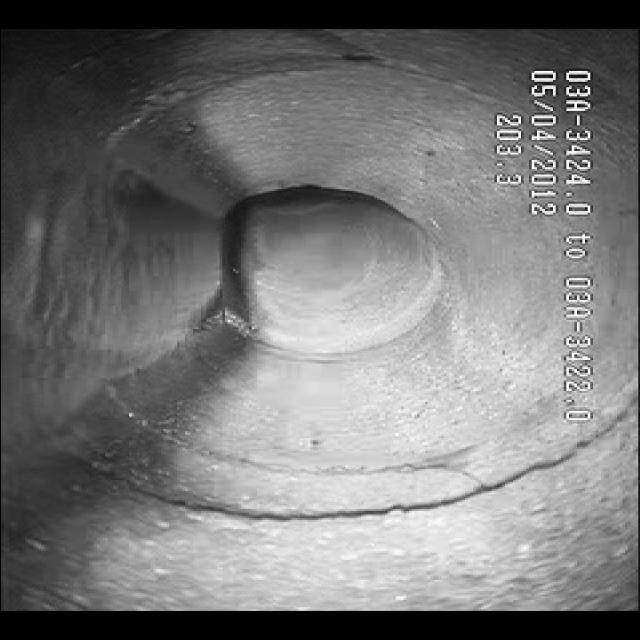Crack: (142, 434, 514, 520)
